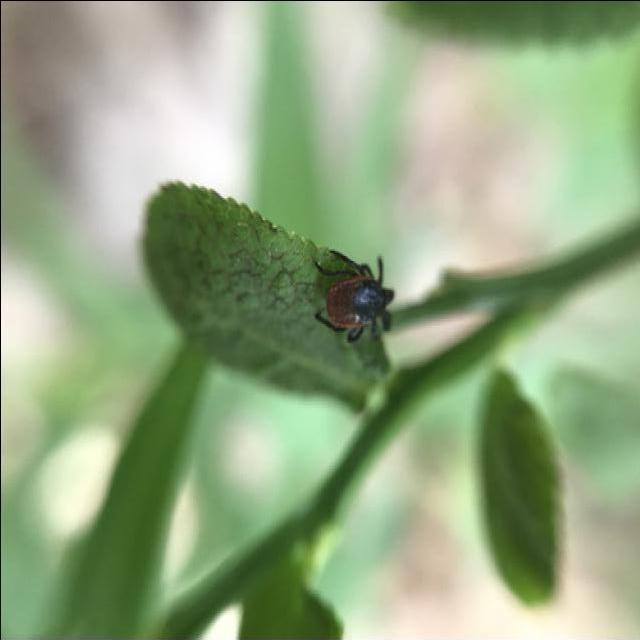Ixodes Ricinus-F: (312, 246, 393, 343)
